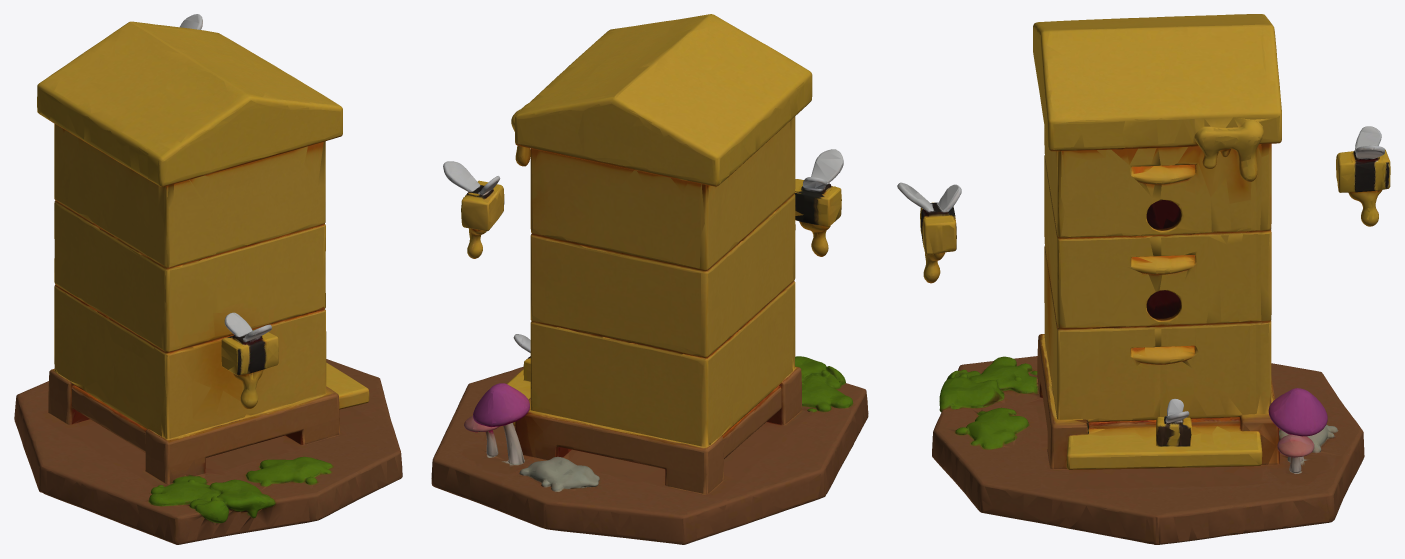
Rendered from beebox2.fbx.
The picture shows the model from 3 angles, left to right: view 1: azimuth 30°, elevation 25°; view 2: azimuth 150°, elevation 25°; view 3: azimuth 270°, elevation 25°; orthographic projection. The views are drawn at different scales.
Parts seen in each view (by area): view 1: tripo_node_df46928d; view 2: tripo_node_df46928d; view 3: tripo_node_df46928d.
Boxes of the visible parts, x1,y1,x2,y2 form: tripo_node_df46928d: (14, 14, 402, 544); tripo_node_df46928d: (431, 14, 868, 544); tripo_node_df46928d: (897, 14, 1390, 544).
Bounding box in the file's own units: 84.43 × 92.69 × 98.
